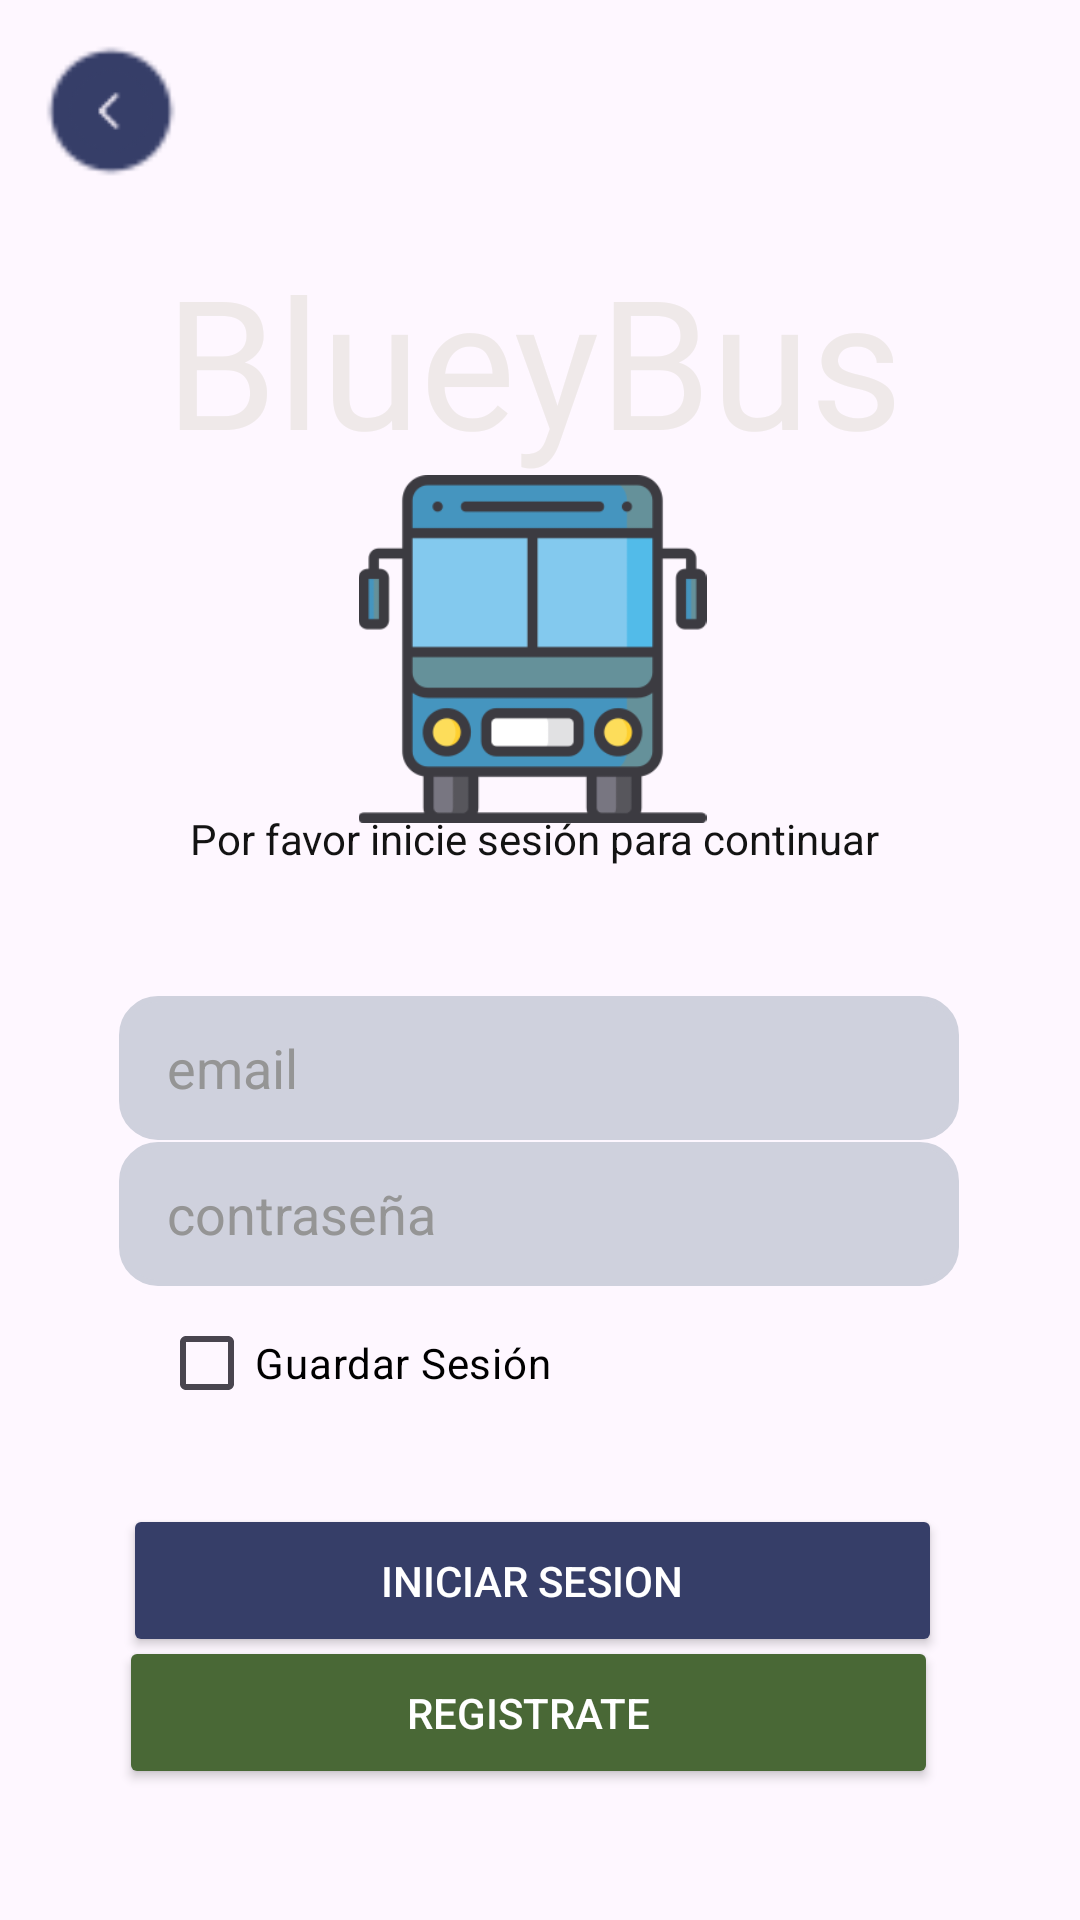

Icons on this 1080px x 1920px Android screen, each with the point to tap as point (x, y):
transporte publico: point (533, 649)
